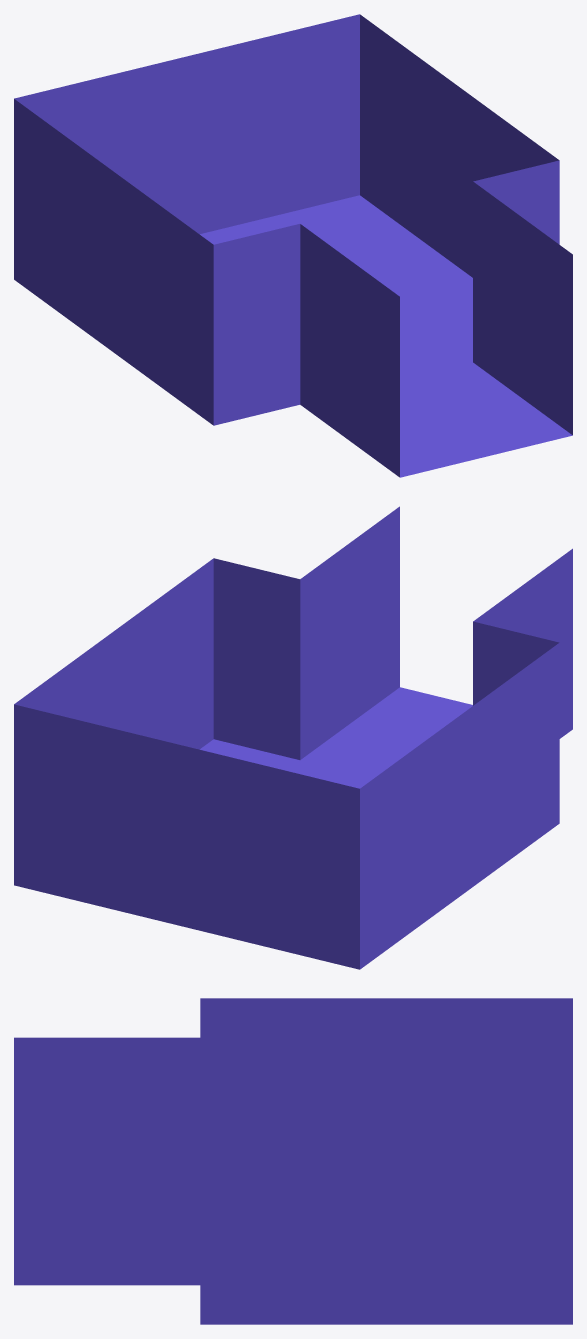
Rendered from deadend_180.glb.
3 renders of one model, top to bottom at view 1: azimuth 30°, elevation 25°; view 2: azimuth 150°, elevation 25°; view 3: azimuth 270°, elevation 25°, orthographic. The views are drawn at different scales.
Parts seen in each view (by area): view 1: deadend_180; view 2: deadend_180; view 3: deadend_180.
Part boxes in pixels (left/top/right/bottom): deadend_180: left=14, top=14, right=572, bottom=477; deadend_180: left=14, top=506, right=572, bottom=969; deadend_180: left=14, top=998, right=572, bottom=1324.
Bounding box in the file's own units: 2 × 1 × 3.
